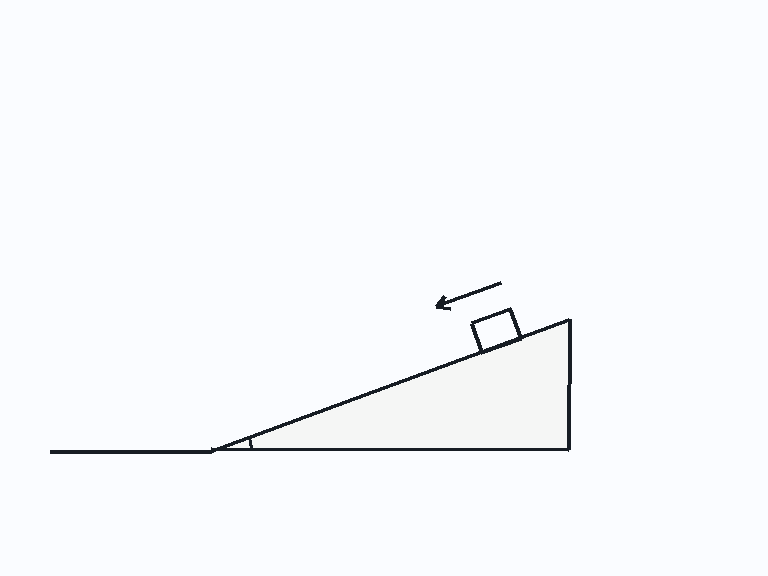block: (469, 307, 523, 354)
ramp: (209, 318, 571, 452)
